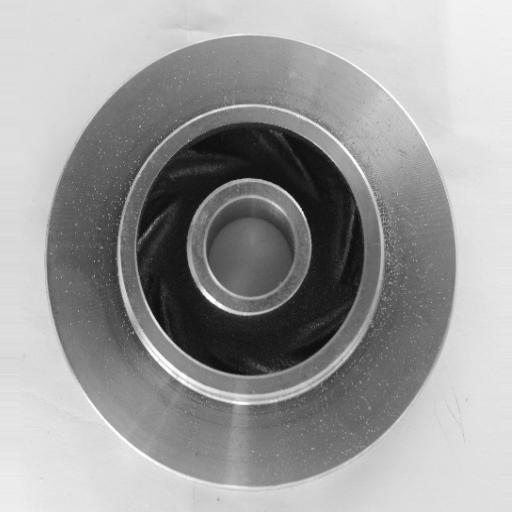polished_casting: (40, 33, 458, 492)
